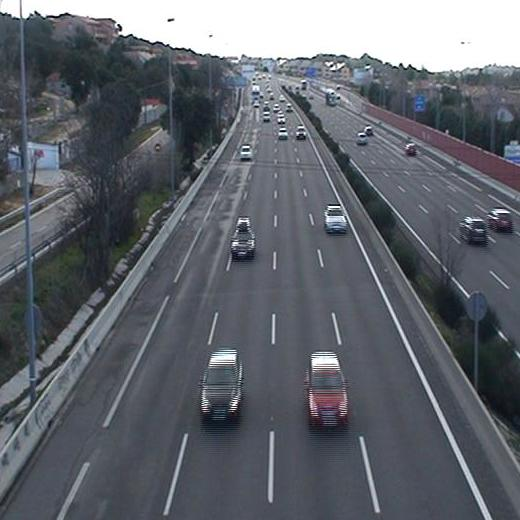car: (301, 350, 352, 429), (197, 349, 247, 424), (229, 226, 256, 260), (321, 206, 350, 234), (293, 127, 308, 140), (239, 145, 252, 159), (277, 127, 288, 140)
